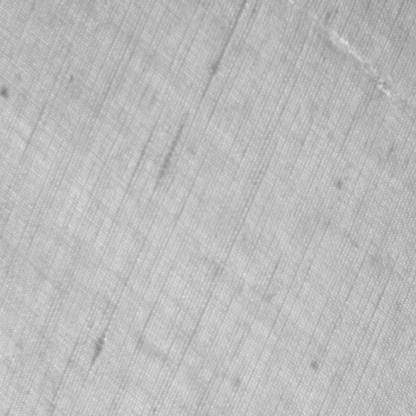thread error: (290, 1, 403, 102)
